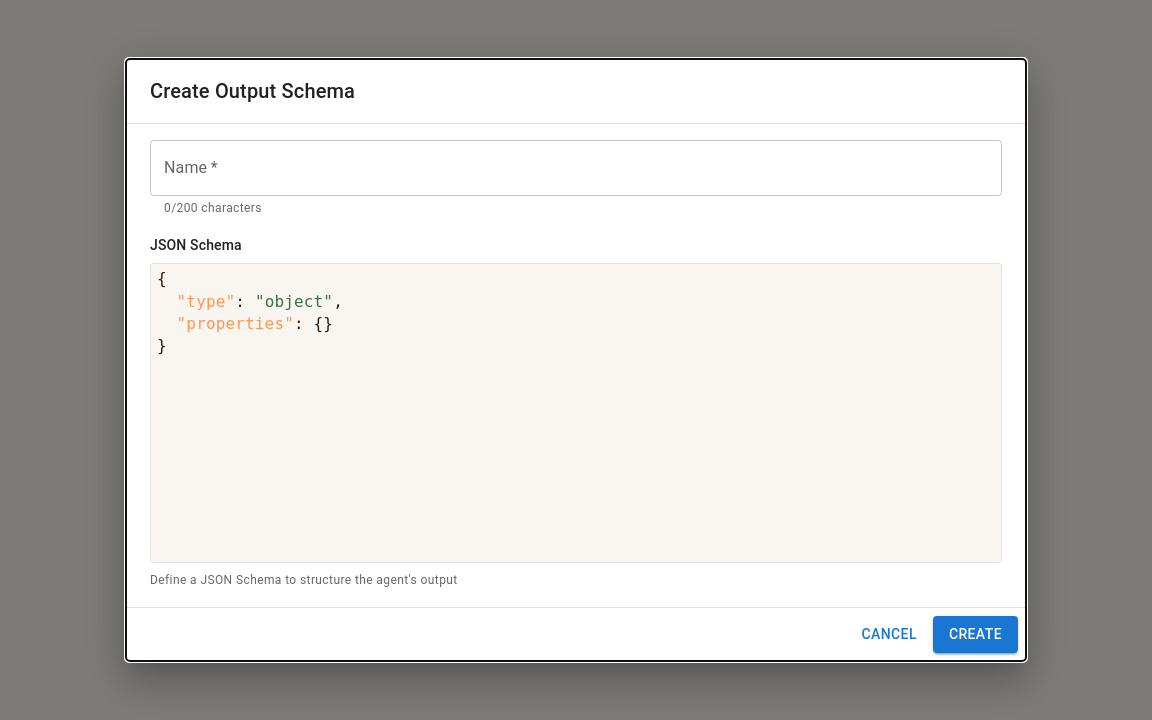
Test case: OutputSchemaFormDialog › validates required name field
Step 1. Click the button "Create" → click(975, 634), box left=933, top=616, right=1018, bottom=653
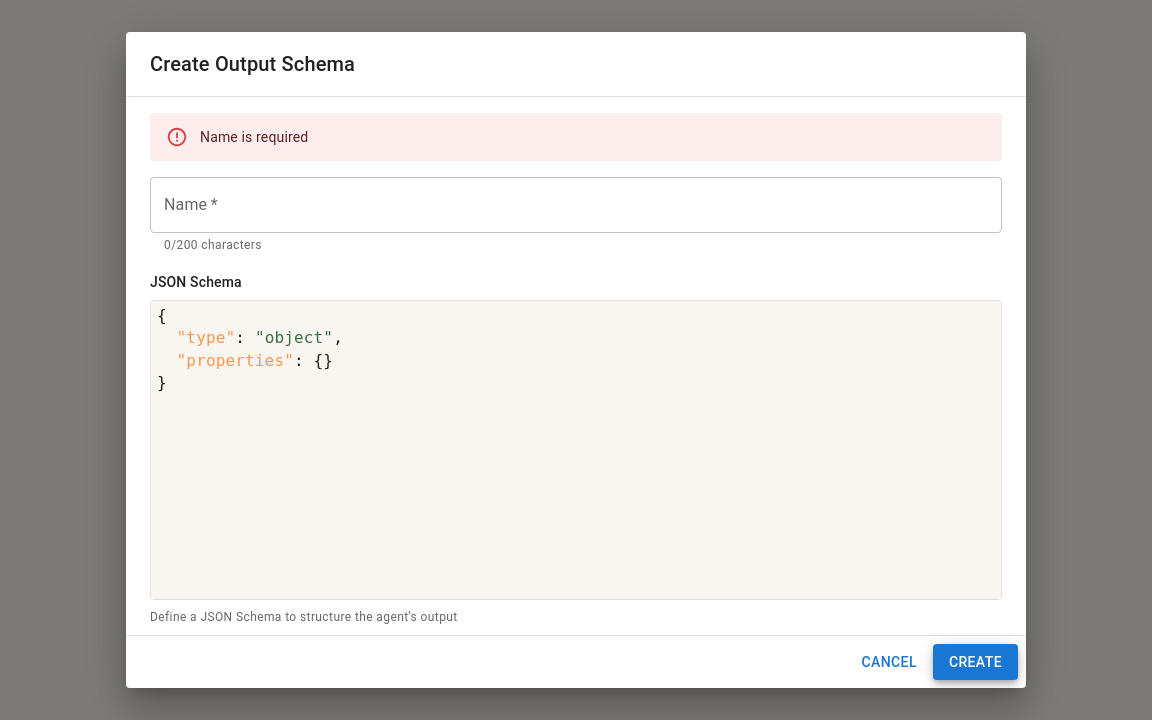
expect the text "Name is required" is shown: met, box left=200, top=129, right=308, bottom=145
